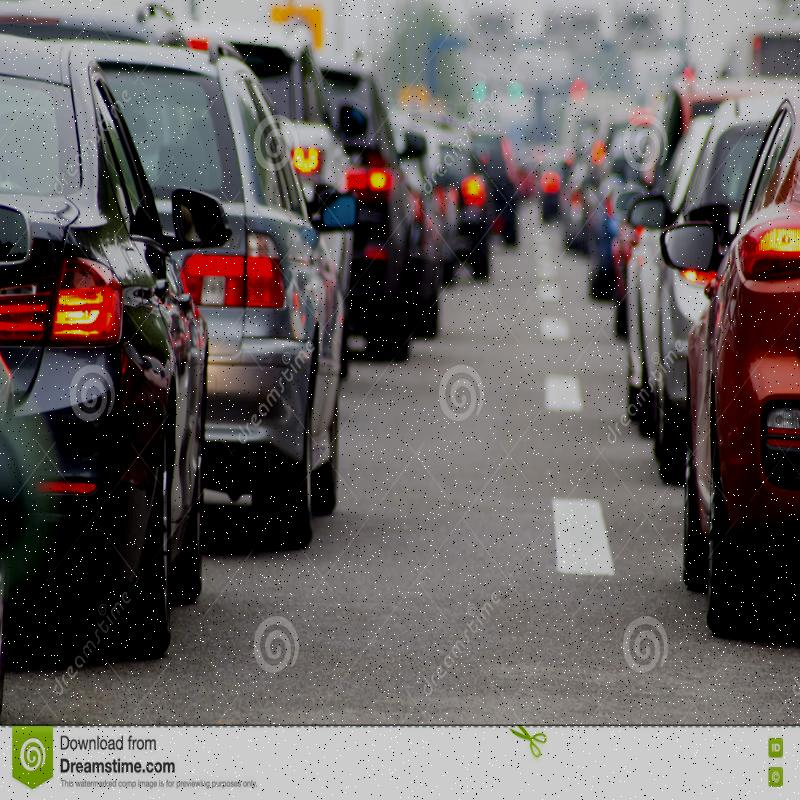car: (0, 0, 220, 678), (102, 45, 314, 568), (655, 76, 789, 464), (732, 97, 800, 532)
